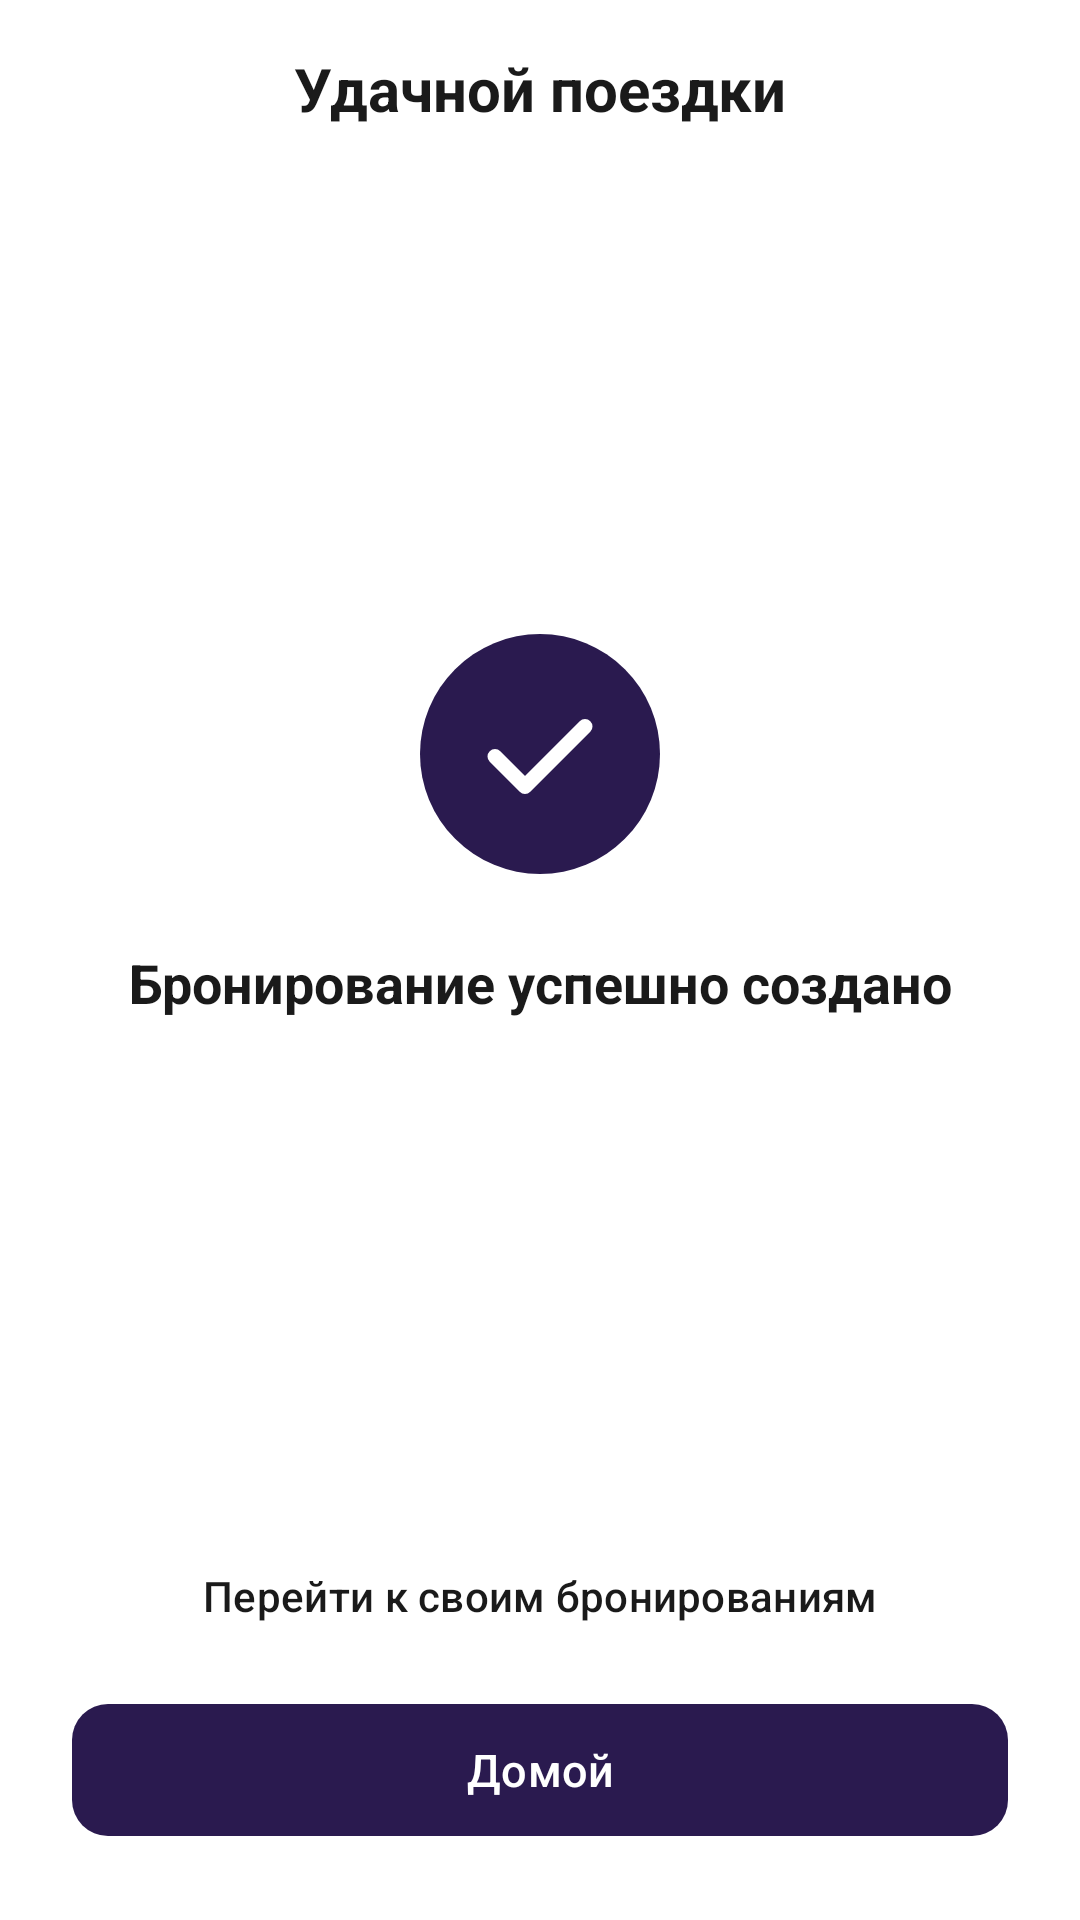

Icon click points for this 1080 × 1920 phone screenshot, format point (x, y):
success: point (540, 754)
